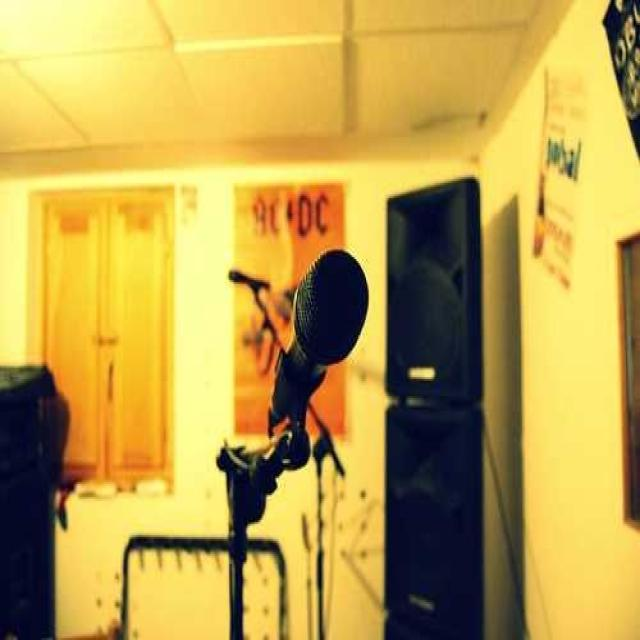microphone: (269, 248, 371, 441)
